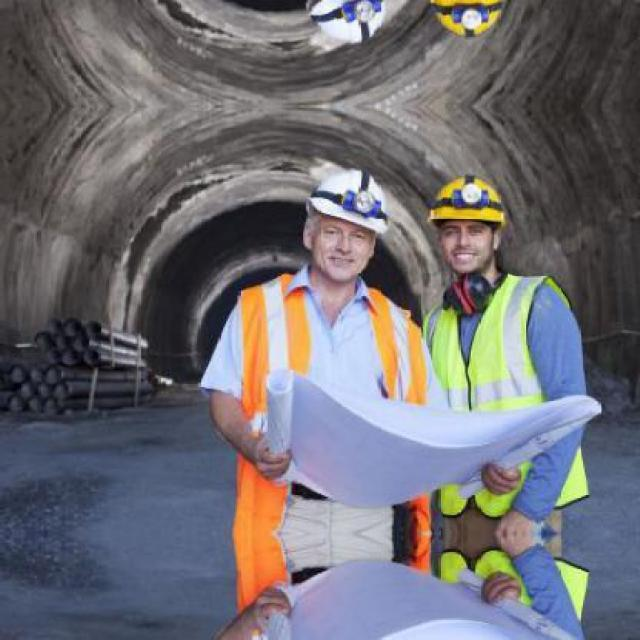Reflective-Jacket: (223, 268, 422, 515), (418, 270, 588, 520)
Safety-Helmet: (296, 160, 396, 239), (422, 167, 516, 234)
